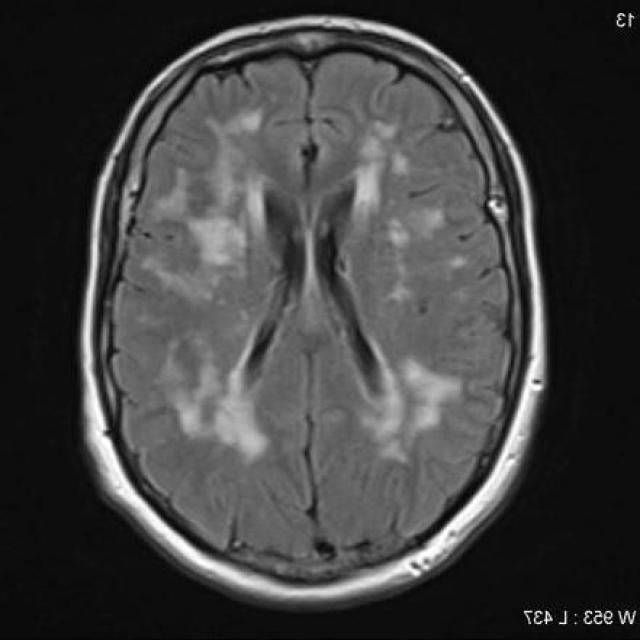notumor: (80, 19, 546, 608)
